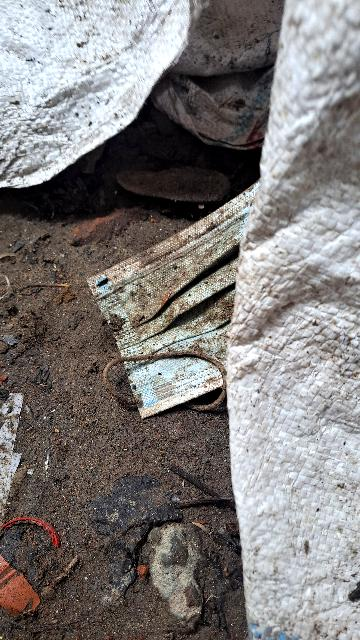mask: (73, 172, 301, 441)
